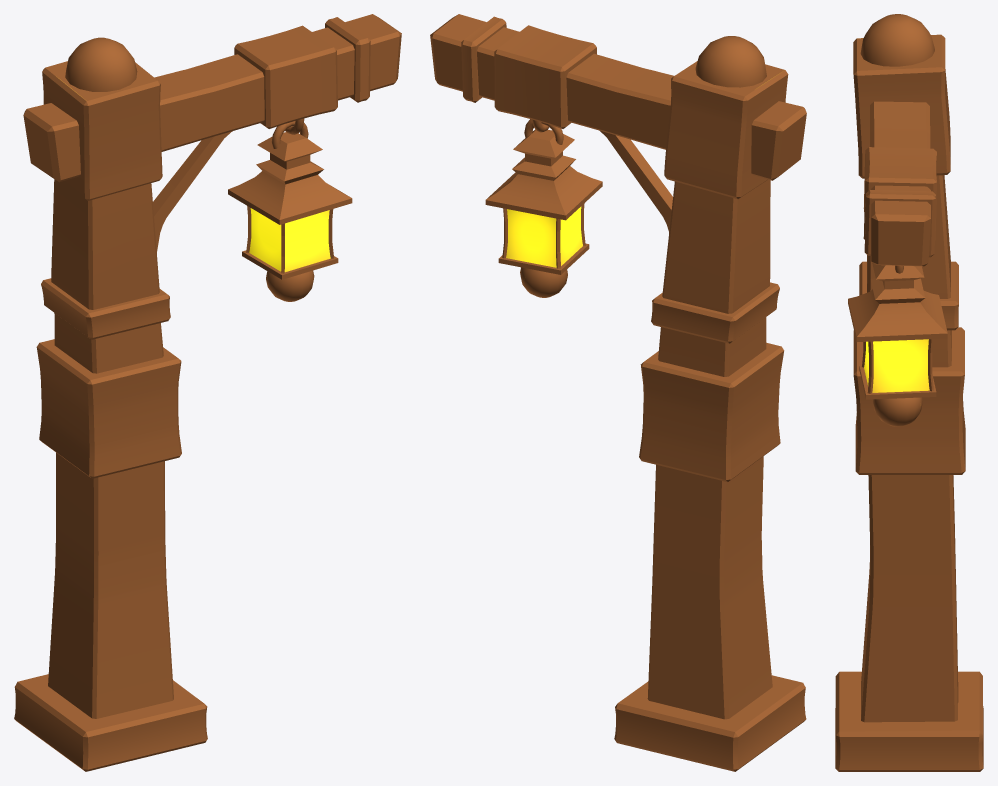
Rendered from streetLamp.fbx.
3 views of the same model, side by side, from view 1: azimuth 30°, elevation 25°; view 2: azimuth 150°, elevation 25°; view 3: azimuth 270°, elevation 25° (orthographic). The views are drawn at different scales.
Parts seen in each view (by area): view 1: BaseColumn_low; view 2: BaseColumn_low; view 3: BaseColumn_low.
Part boxes in pixels (x1,y1,x2,y2): BaseColumn_low: (14, 14, 401, 771); BaseColumn_low: (430, 14, 806, 771); BaseColumn_low: (835, 14, 983, 771).
Bounding box in the file's own units: 133 × 250 × 46.89.
